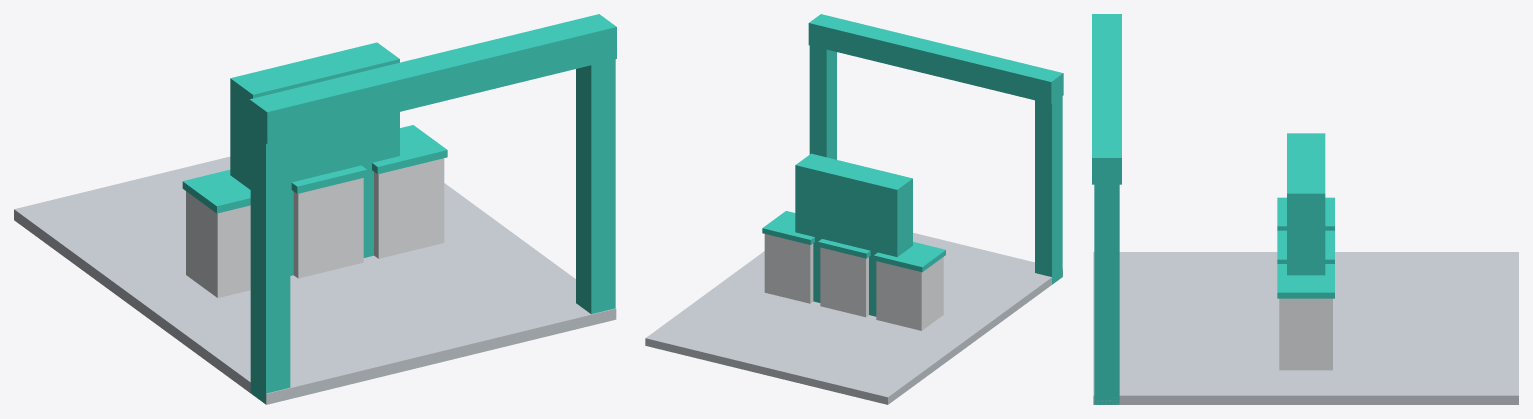
The picture shows the model from 3 angles, left to right: view 1: azimuth 30°, elevation 25°; view 2: azimuth 150°, elevation 25°; view 3: azimuth 270°, elevation 25°; orthographic projection. The views are drawn at different scales.
Parts seen in each view (by area): view 1: Exhibition Booth Concept; view 2: Exhibition Booth Concept; view 3: Exhibition Booth Concept.
Boxes of the visible parts, x1=… form: Exhibition Booth Concept: x1=14, y1=14, x2=616, y2=404; Exhibition Booth Concept: x1=645, y1=14, x2=1063, y2=404; Exhibition Booth Concept: x1=1092, y1=14, x2=1518, y2=404.
Bounding box in the file's own units: 4 × 3.2 × 5.02.
